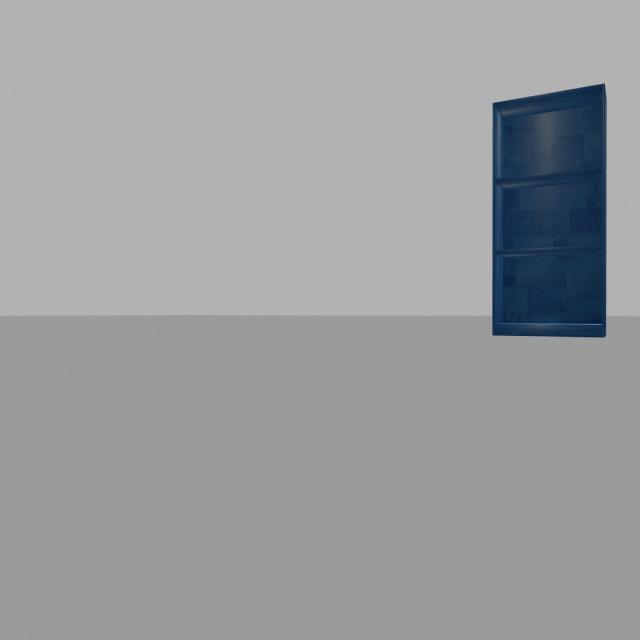shelf: (476, 81, 620, 359)
